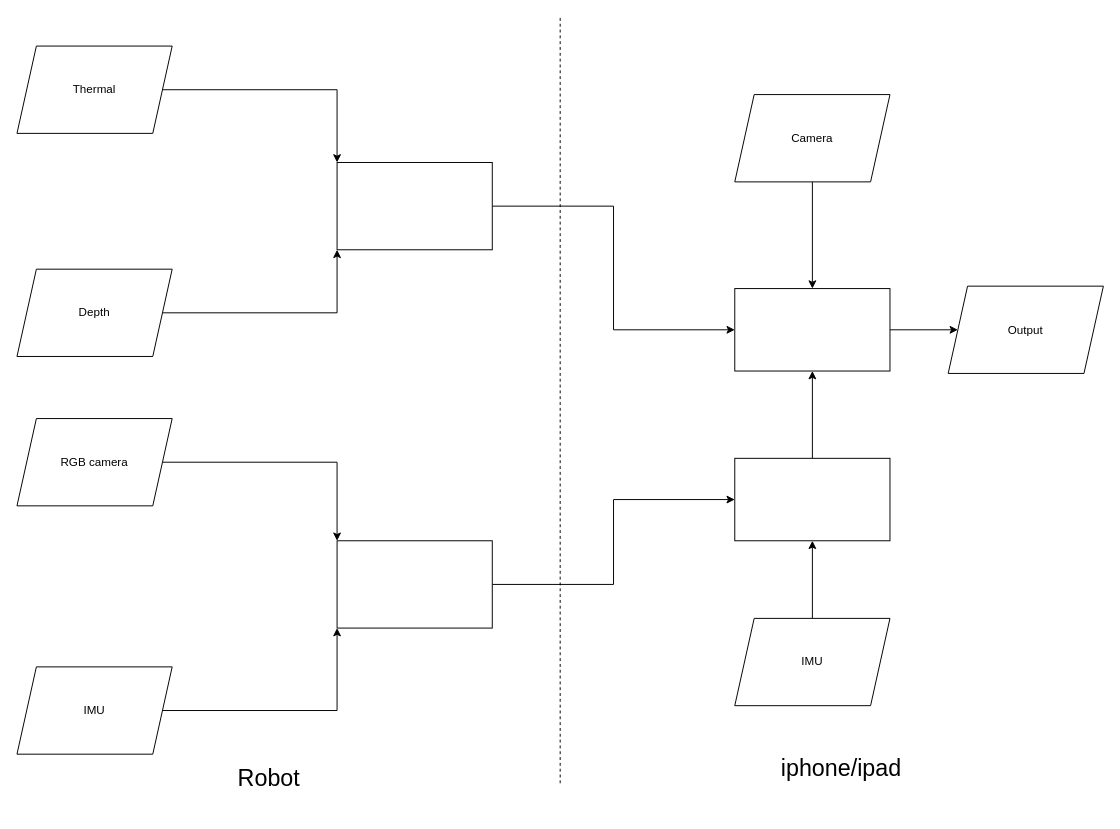
The diagram is 1120 pixels wide and 829 high, and some of its shapes have lost their labels. Each missing label, with the box of its shape:
Odometry node: (734, 457, 890, 541)
Rendering: (734, 288, 890, 371)
thermal cropper with intergrated point cloud publisher: (336, 162, 492, 250)
VIO node: (336, 540, 492, 628)
